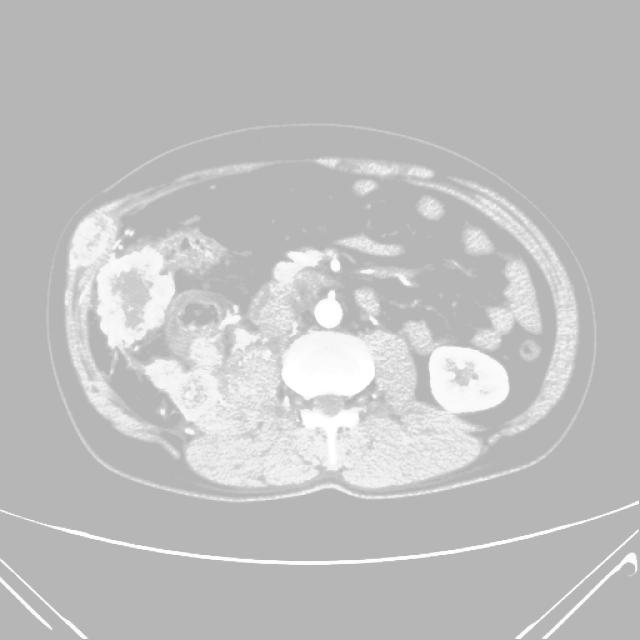TUMOR: (152, 179, 496, 424)
